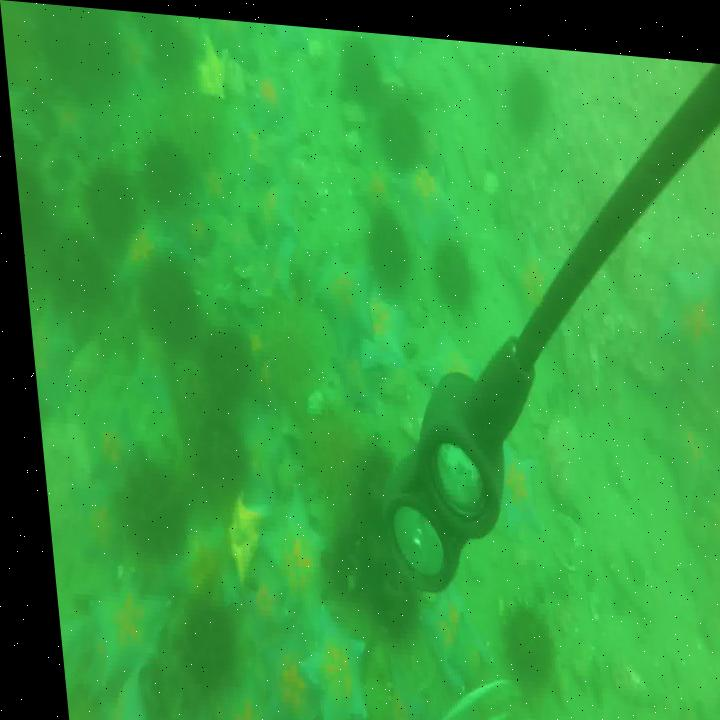echinus: (108, 453, 180, 562), (45, 7, 119, 87), (132, 257, 194, 342), (489, 596, 546, 687), (310, 517, 368, 601), (171, 595, 225, 685), (79, 162, 133, 248), (49, 230, 100, 313), (359, 556, 405, 639), (348, 438, 392, 524), (194, 321, 245, 395), (190, 416, 238, 491), (138, 131, 187, 203), (375, 95, 425, 162), (369, 207, 406, 288), (147, 21, 195, 78), (429, 234, 466, 302), (337, 32, 377, 90), (505, 57, 542, 119)
starfish: (280, 601, 367, 720), (72, 572, 161, 680), (248, 479, 319, 604), (654, 244, 720, 376), (407, 582, 483, 693), (646, 393, 720, 490), (240, 631, 308, 720), (389, 155, 460, 237), (22, 296, 69, 419), (488, 432, 544, 530), (414, 329, 475, 415), (311, 251, 368, 341), (234, 97, 290, 179), (122, 319, 174, 407), (81, 414, 140, 491), (351, 283, 405, 358), (330, 333, 380, 412), (64, 492, 114, 568), (229, 413, 277, 490), (236, 227, 295, 288), (206, 661, 265, 720), (250, 173, 292, 223), (373, 670, 410, 720)
